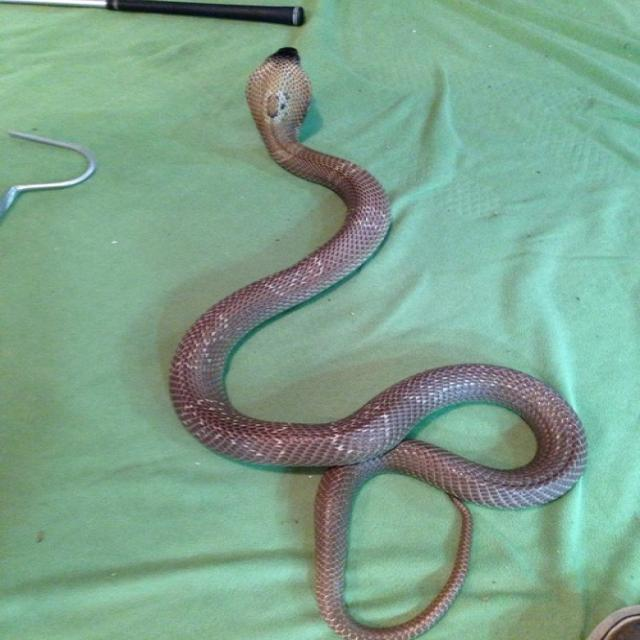Snake: (163, 37, 597, 640)
